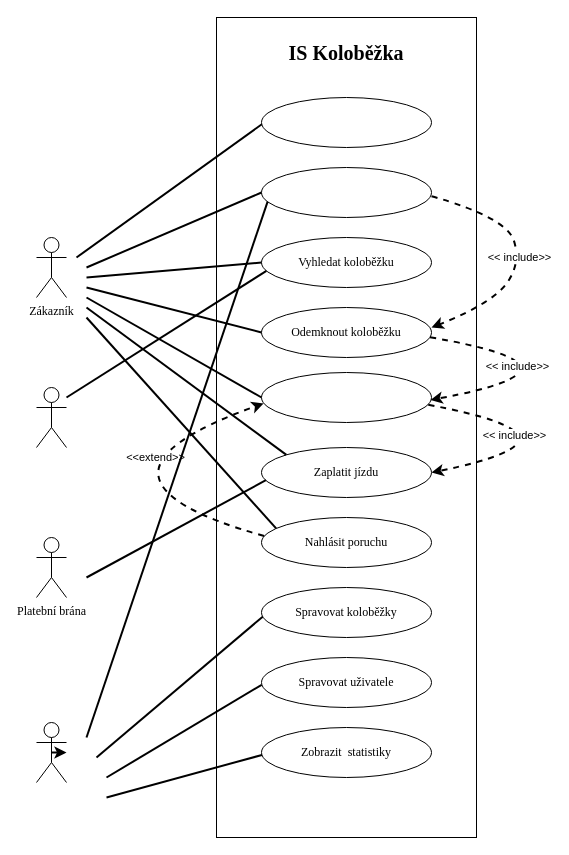
This 569x855 diagram has some shape labels left out. Here are the shapes that lost their labels. From the top down, the centre of each, then its label:
At point 346,122: "Registrovat se".
At point 346,192: "Přihlásit se".
At point 51,417: "GPS Systém".
At point 346,397: "Ukončit jízdu".
At point 51,752: "Administrátor".
